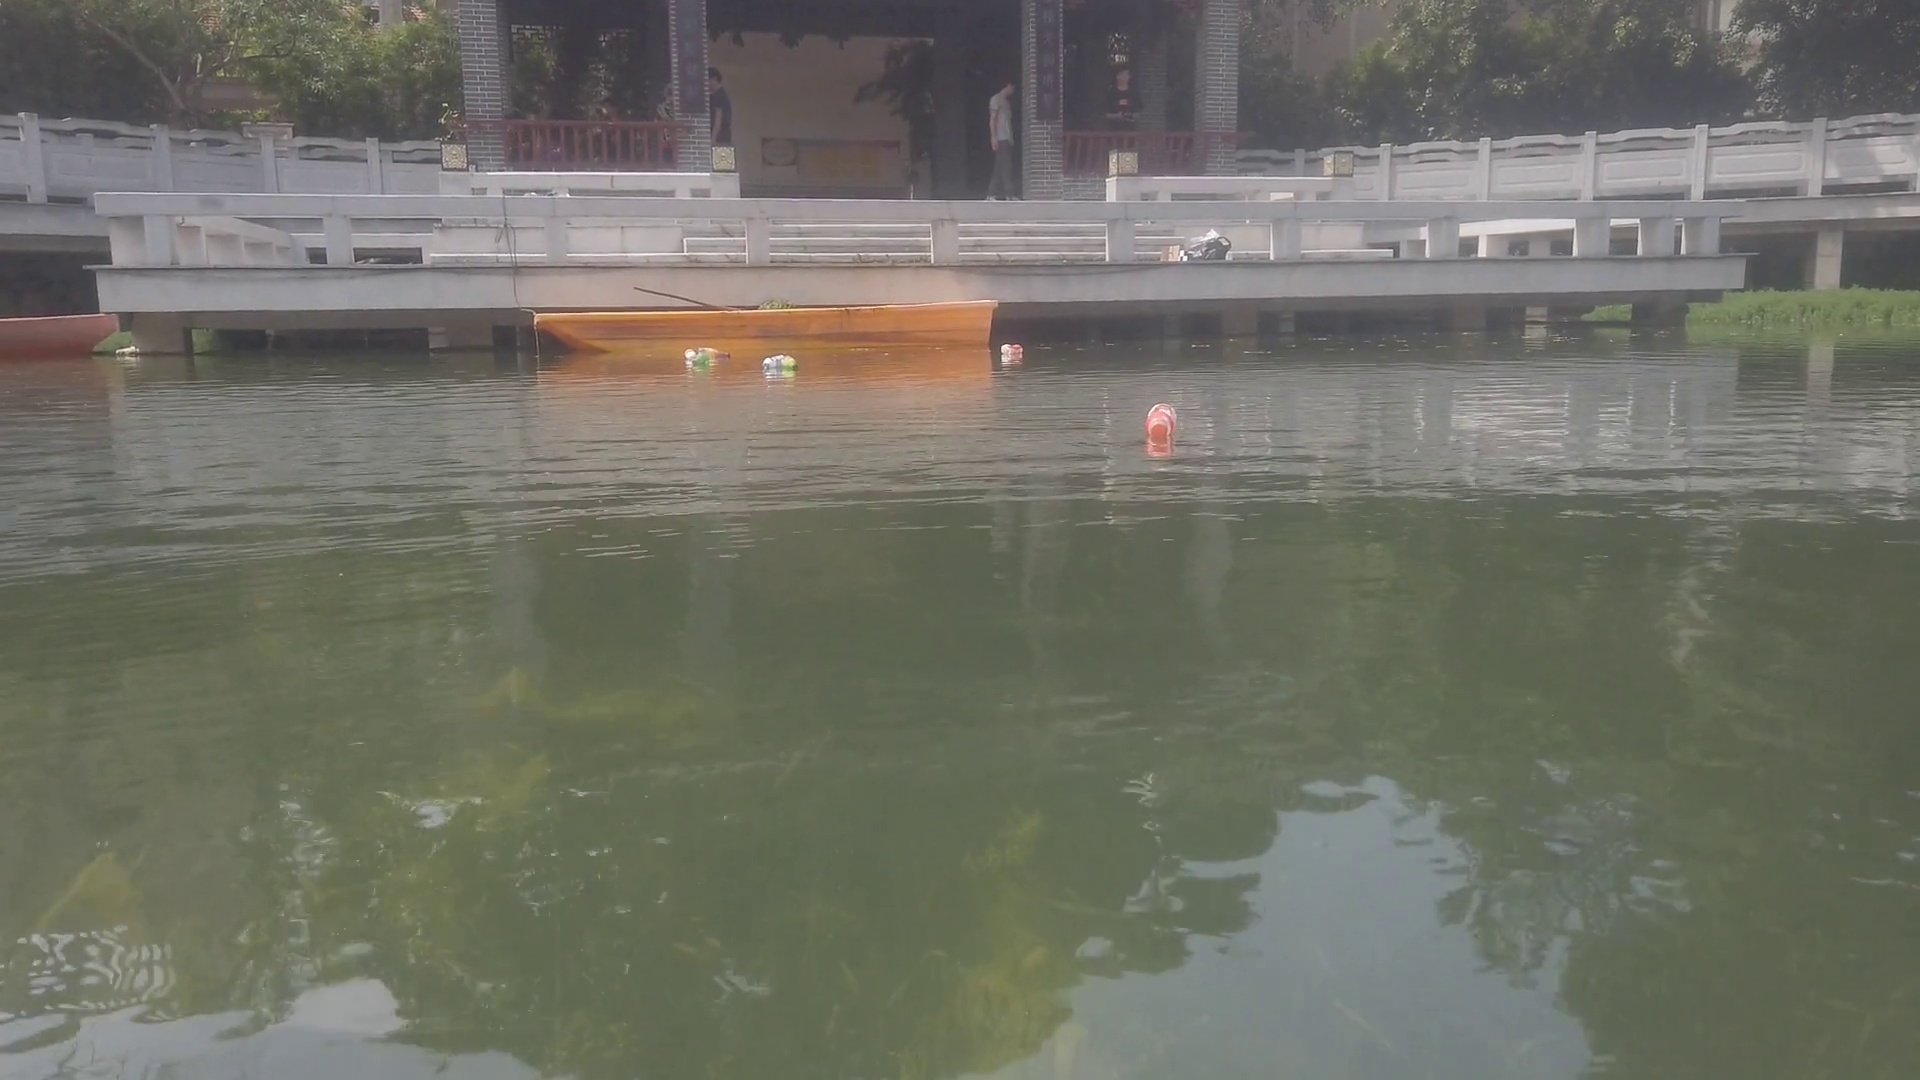bottle: (1145, 404, 1178, 443), (699, 345, 732, 361), (1000, 342, 1023, 356), (762, 353, 779, 371), (686, 349, 703, 367), (786, 357, 800, 367)
